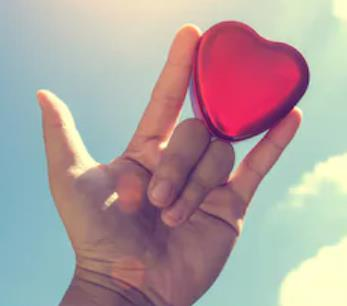back: (33, 20, 305, 298)
